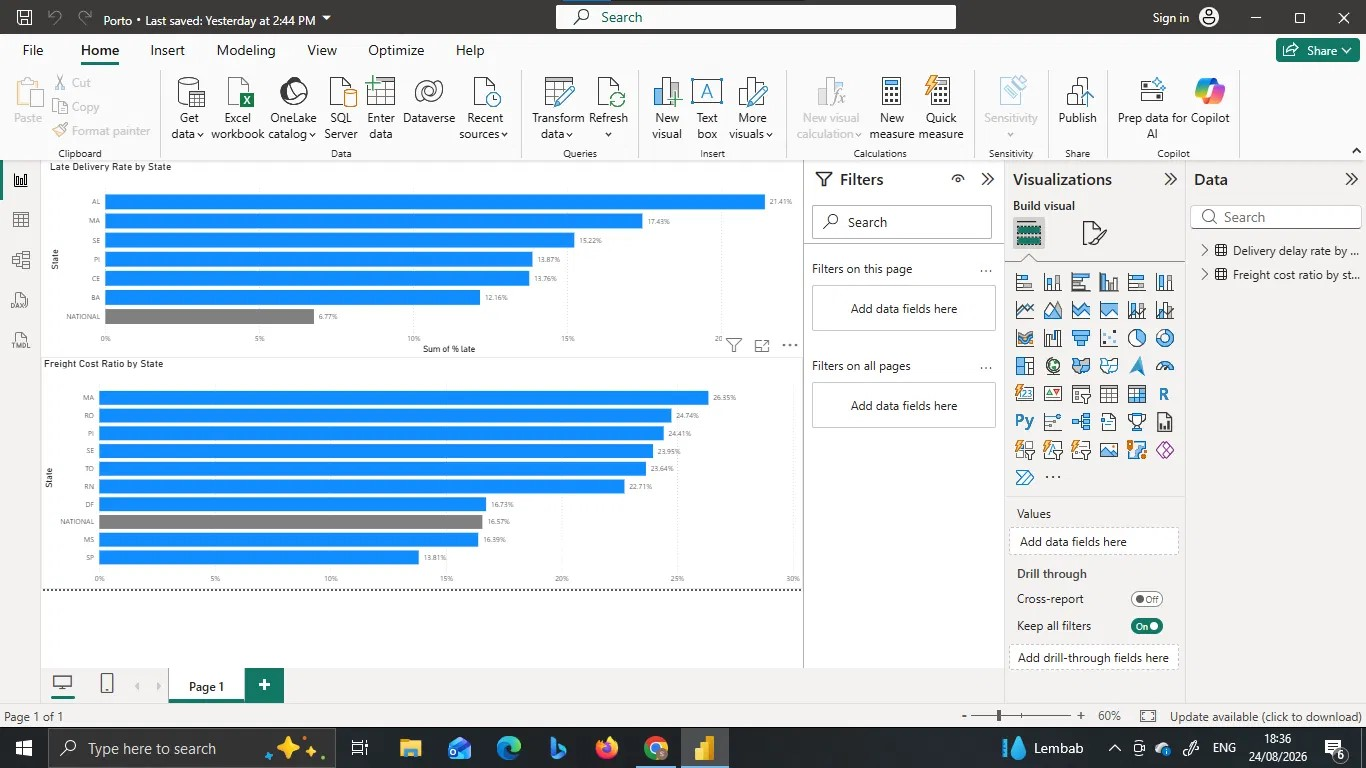

Layout of this report page (visuals, bound fields, positions):
{"tool":"powerbi","page":{"name":"Page 1","canvas":[1280,720],"ordinal":0},"visuals":[{"type":"clusteredBarChart","title":"Late Delivery Rate by State","fields":{"Category":["Delivery delay rate by state (200+ orders) (Delivery delays).State"],"Y":["Sum(Delivery delay rate by state (200+ orders) (Delivery delays).% late)"]},"box":[10.1,0,1269.9,330.9],"z":0},{"type":"clusteredBarChart","title":"Freight Cost Ratio by State","fields":{"Category":["Freight cost ratio by state (200+ items) (Freight costs).State"],"Y":["Sum(Freight cost ratio by state (200+ items) (Freight costs).Freight % of price)"]},"box":[0,330.9,1280,389.7],"z":1000}]}

Visuals, with their boxes on the page's 1280x720 design canvas (x1, y1, x2, y2). These are canvas units, not pixel positions in the 1366x768 screenshot, which may show the page scaled, cropped or inside an application window:
"Late Delivery Rate by State" clusteredBarChart: 10:0:1280:331
"Freight Cost Ratio by State" clusteredBarChart: 0:331:1280:721
